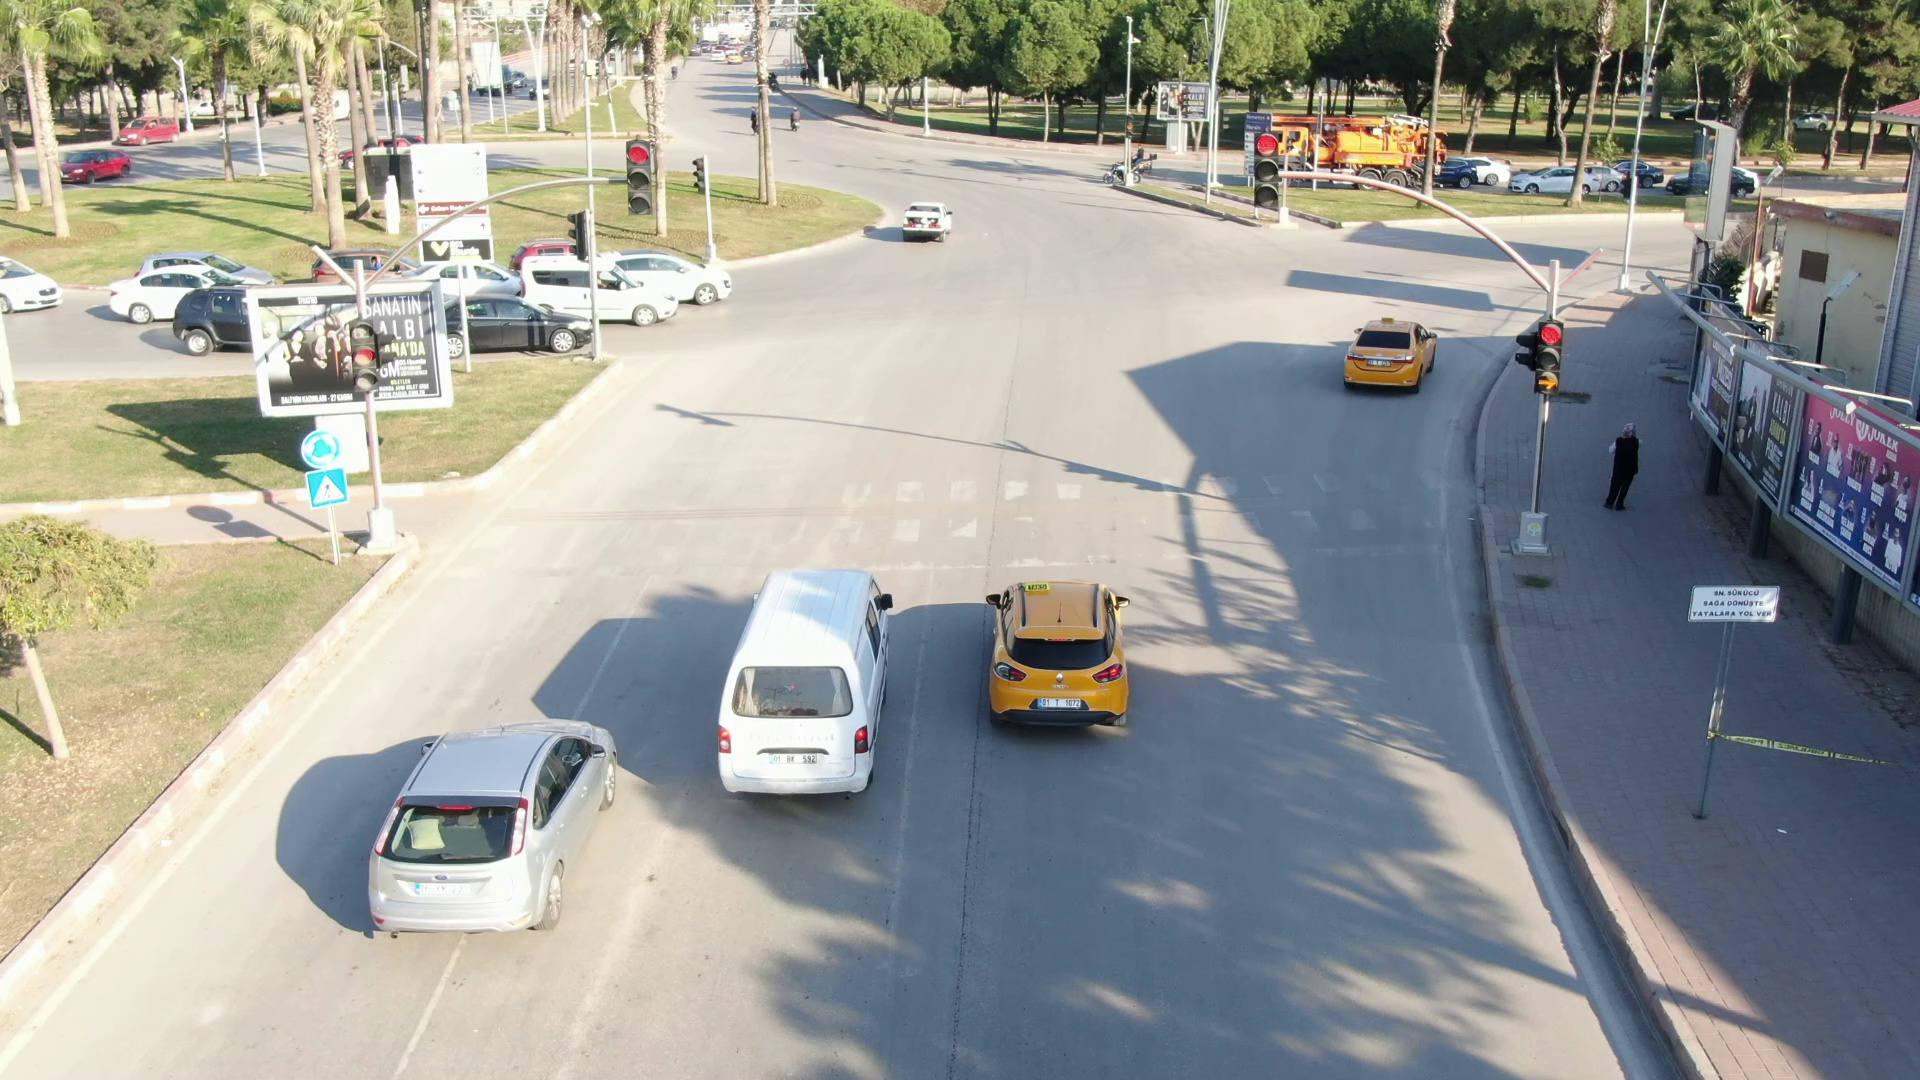car: (366, 719, 625, 949), (719, 570, 902, 800), (988, 580, 1133, 731), (515, 255, 676, 323), (443, 290, 600, 357), (186, 278, 296, 359), (1347, 315, 1435, 394), (617, 251, 735, 304), (114, 266, 212, 319), (384, 259, 531, 290), (57, 149, 145, 180), (896, 210, 953, 233)
person: (1600, 417, 1645, 514)
